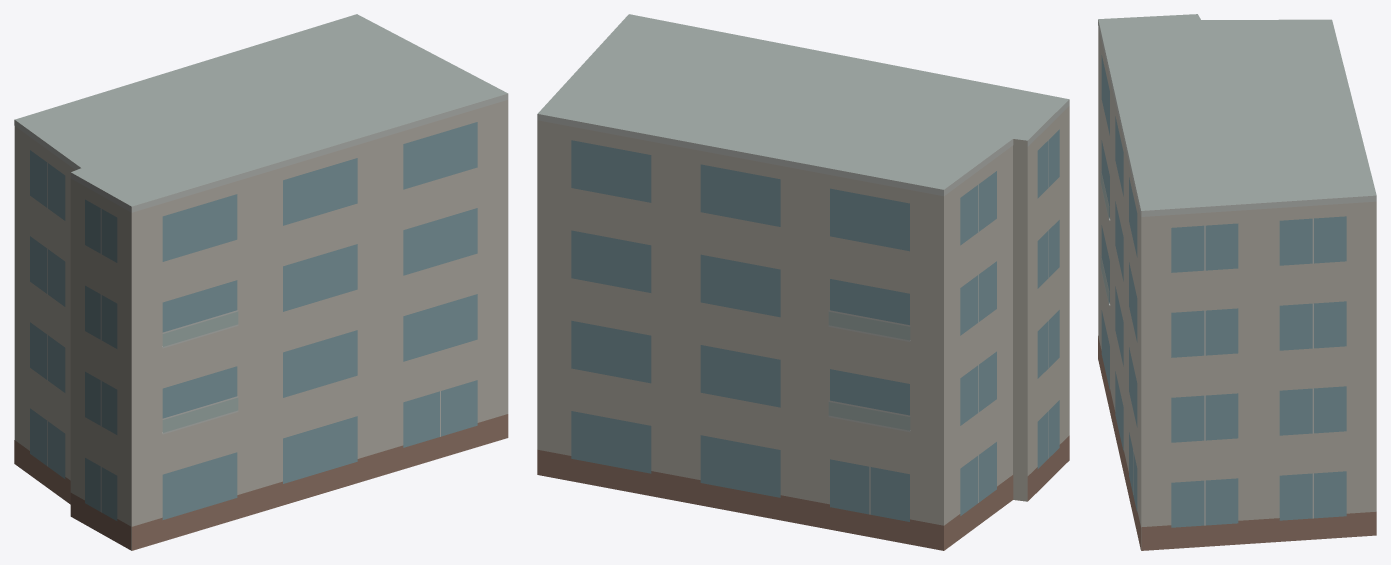
File: survey-upis-33034218.glb
3 views of the same model, side by side, from view 1: azimuth 30°, elevation 25°; view 2: azimuth 150°, elevation 25°; view 3: azimuth 270°, elevation 25° (orthographic). The views are drawn at different scales.
Parts seen in each view (by area): view 1: survey-upis-33034218.tmp; view 2: survey-upis-33034218.tmp; view 3: survey-upis-33034218.tmp.
Part boxes in pixels (bbox=[...]): survey-upis-33034218.tmp: bbox=[14, 14, 508, 550]; survey-upis-33034218.tmp: bbox=[537, 14, 1069, 550]; survey-upis-33034218.tmp: bbox=[1098, 14, 1376, 550].
Bounding box in the file's own units: 17.04 × 13.7 × 10.19.
